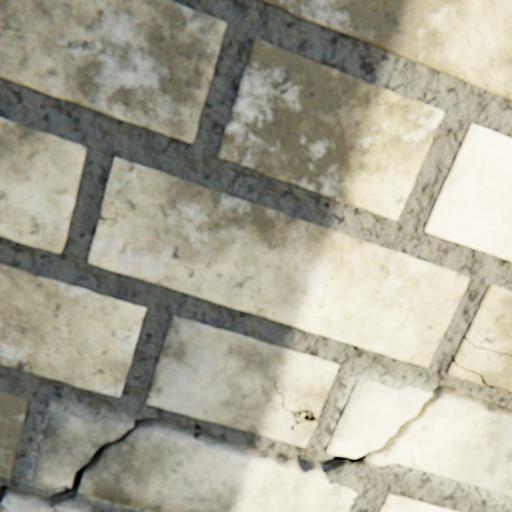brick: (90, 158, 468, 366), (218, 40, 442, 220), (0, 0, 226, 143), (256, 0, 511, 101), (147, 315, 338, 446), (0, 264, 146, 396), (424, 125, 511, 261), (0, 118, 87, 253), (463, 284, 511, 354), (453, 338, 511, 394), (0, 390, 30, 478), (378, 493, 458, 511), (446, 361, 485, 386), (491, 388, 506, 392)
broken_brick: (79, 426, 356, 511), (365, 396, 511, 495), (326, 379, 430, 456), (35, 411, 133, 488), (1, 495, 81, 511)
crack: (0, 384, 511, 511), (274, 380, 317, 430), (452, 359, 510, 394), (463, 336, 511, 357), (100, 218, 116, 220)
